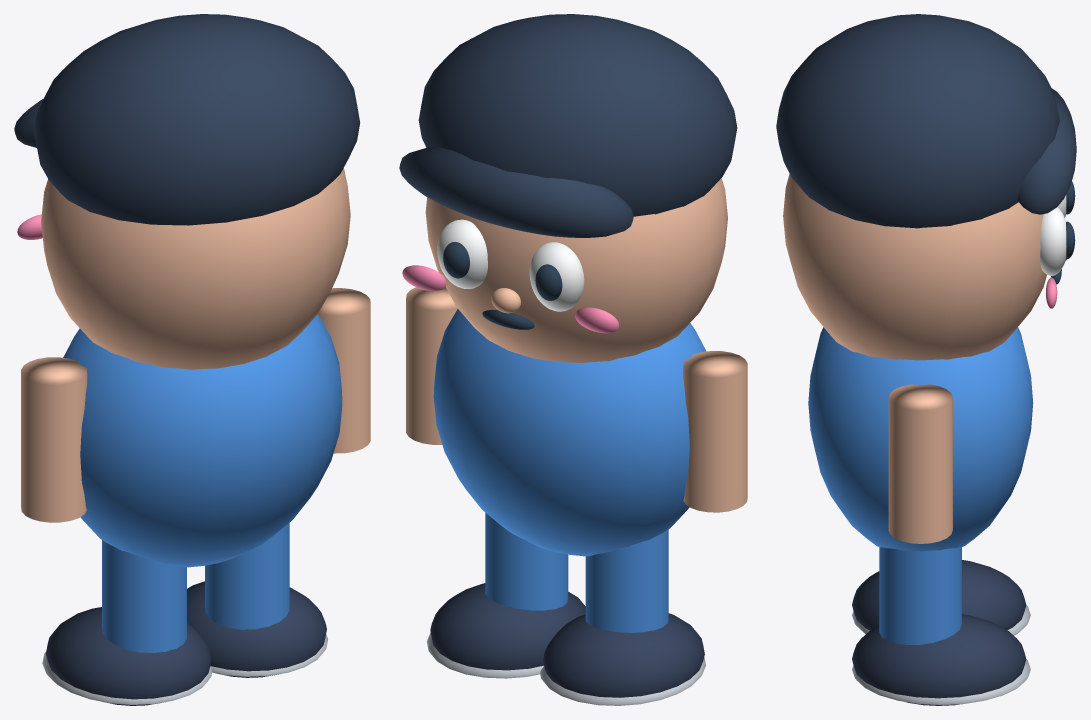
The model's file is male.gltf.
3 renders of one model, left to right at view 1: azimuth 30°, elevation 25°; view 2: azimuth 150°, elevation 25°; view 3: azimuth 270°, elevation 25°, orthographic. The views are drawn at different scales.
Visible parts, largest first — view 1: Short hair crown, Torso, Head, Left arm, Left shoe, Left leg, Right shoe, Right leg, Right arm, Left shoe sole, Right shoe sole, Hair fringe; view 2: Torso, Short hair crown, Head, Hair fringe, Left shoe, Left arm, Right shoe, Left leg, Right leg, Right arm, Left eye white, Right eye white (+8 smaller); view 3: Short hair crown, Head, Torso, Right arm, Right shoe, Right leg, Left shoe, Hair fringe, Right eye white, Right shoe sole.
Part boxes in pixels (x1,y1,x2,y2): Short hair crown: (34, 14, 360, 225); Torso: (63, 314, 342, 567); Head: (41, 168, 350, 369); Left arm: (21, 357, 87, 522); Left shoe: (46, 607, 211, 705); Left leg: (102, 540, 186, 652); Right shoe: (187, 581, 326, 677); Right leg: (205, 523, 289, 629); Right arm: (318, 288, 370, 453); Left shoe sole: (42, 651, 212, 704); Right shoe sole: (210, 634, 327, 676); Hair fringe: (14, 99, 43, 147); Torso: (433, 309, 706, 556); Short hair crown: (418, 14, 737, 216); Head: (425, 178, 727, 363); Hair fringe: (399, 146, 633, 237); Left shoe: (543, 613, 704, 697); Left arm: (683, 351, 747, 512); Right shoe: (430, 583, 585, 670); Left leg: (585, 529, 668, 632); Right leg: (485, 513, 568, 610); Right arm: (406, 287, 457, 444); Left eye white: (529, 242, 584, 311); Right eye white: (437, 219, 487, 288); Short hair crown: (776, 14, 1059, 228); Head: (783, 174, 1046, 360); Torso: (808, 327, 1033, 551); Right arm: (888, 384, 952, 543); Right shoe: (852, 614, 1026, 705); Right leg: (879, 547, 961, 644); Left shoe: (852, 560, 1026, 630); Hair fringe: (1018, 88, 1076, 214); Right eye white: (1040, 207, 1066, 275); Right shoe sole: (852, 659, 1030, 705).
Bounding box in the file's own units: 1.66 × 3.02 × 1.31.
